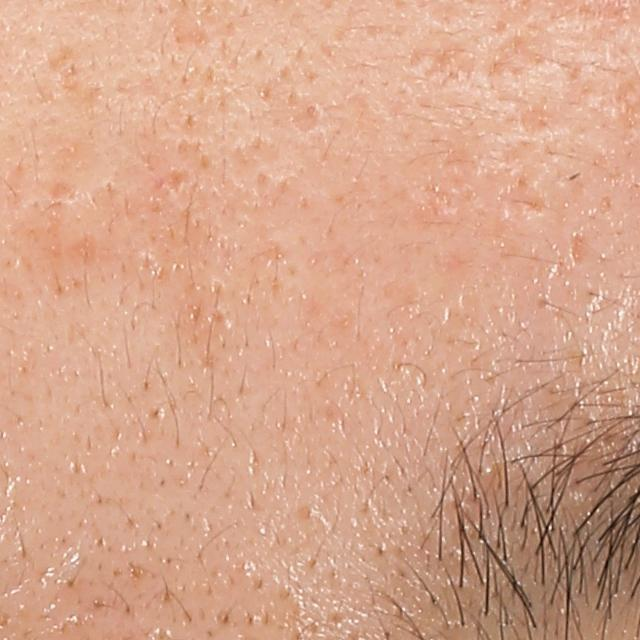atrophic_scar: (487, 24, 556, 76), (405, 40, 480, 82), (496, 180, 549, 222), (289, 99, 324, 127), (569, 232, 590, 267), (44, 177, 77, 199)
